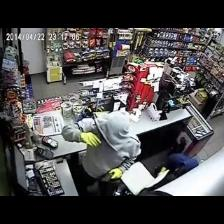person: (63, 112, 140, 195)
